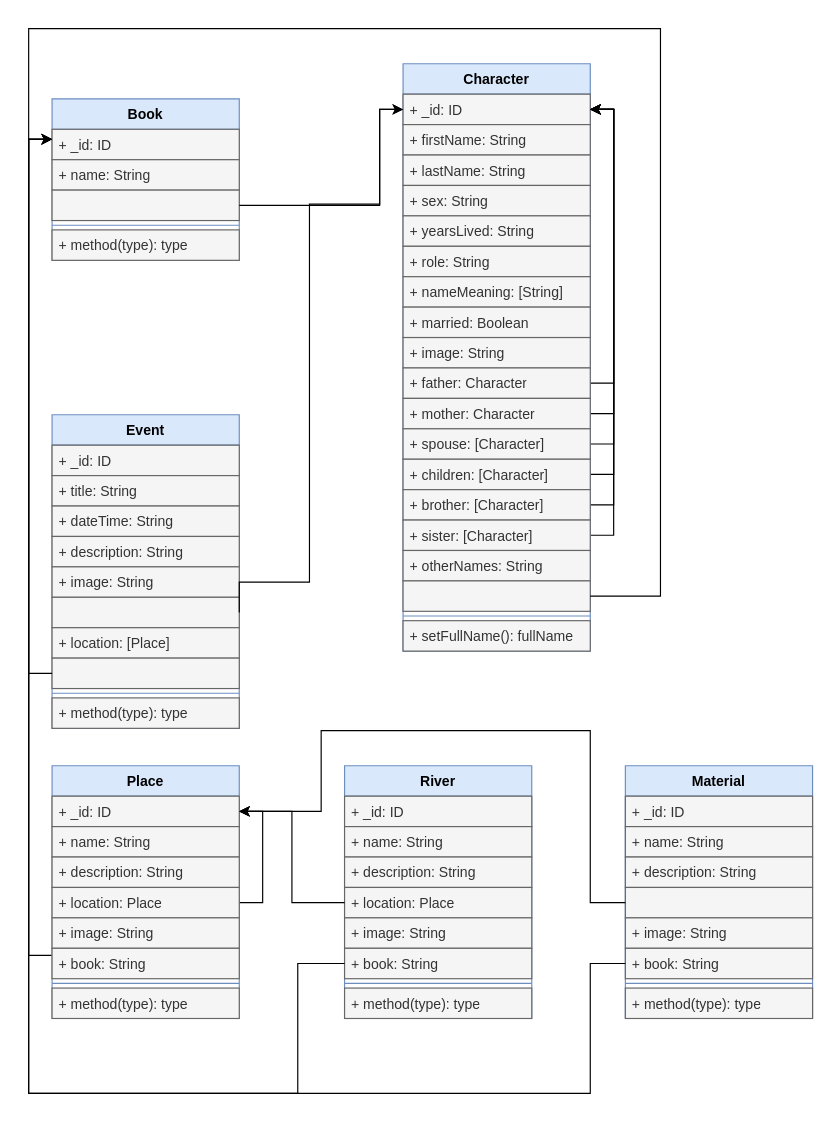
Image size: 833x1123. Some labels were removed from this diagram. The centre of each missing label's shape, as x and y in pixels:
"+ author: Character" belongs at [145,205].
"+ book: [Book]" belongs at [145,673].
"+ book: Book" belongs at [496,595].
"+ characters: [Character]" belongs at [145,612].
"+ source: [Place]" belongs at [718,902].
